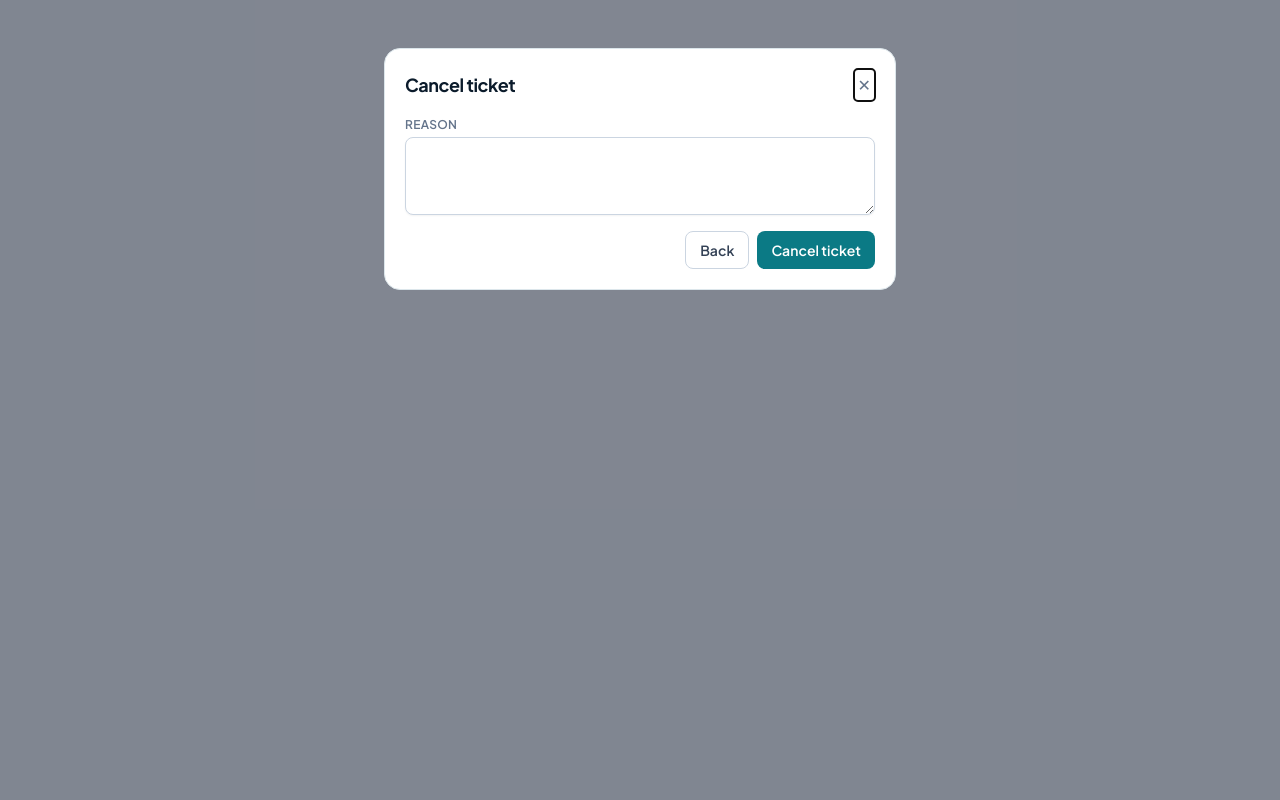
Test: ReasonModal › requires a reason and only confirms once one is given
The image size is (1280, 800).
Later steps or results of the test are not shown.
What coordinates should you click on to do the following:
click the button "Cancel ticket"
I would click on:
 (816, 250)
Its box is [757,231,875,269].
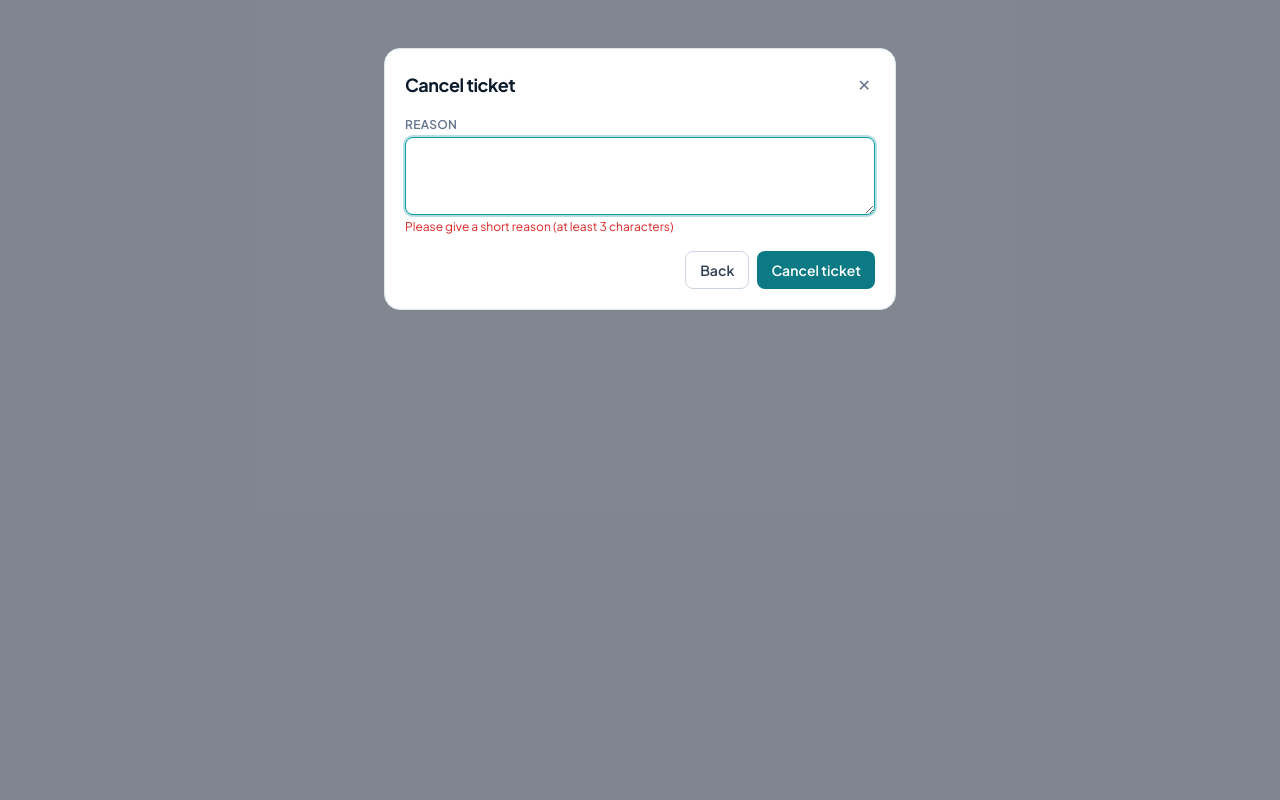
expect the text "Please give a short reason (at least 3 characters)" is shown: met, box [405,219,674,234]
